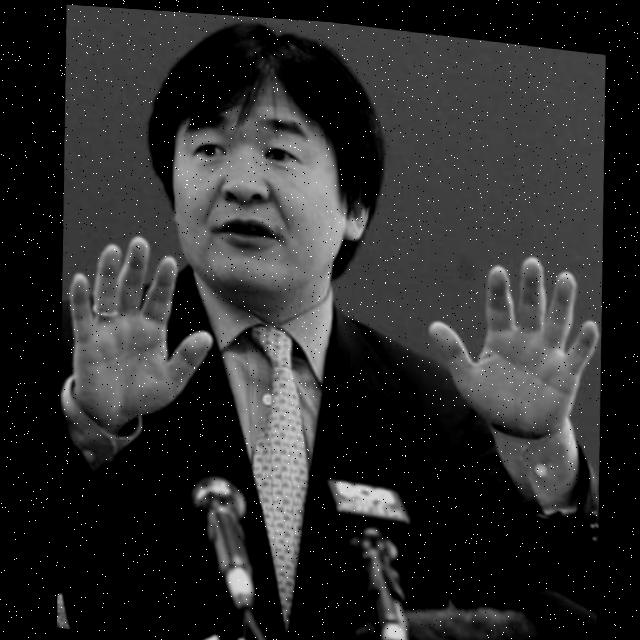face: (147, 31, 373, 325)
